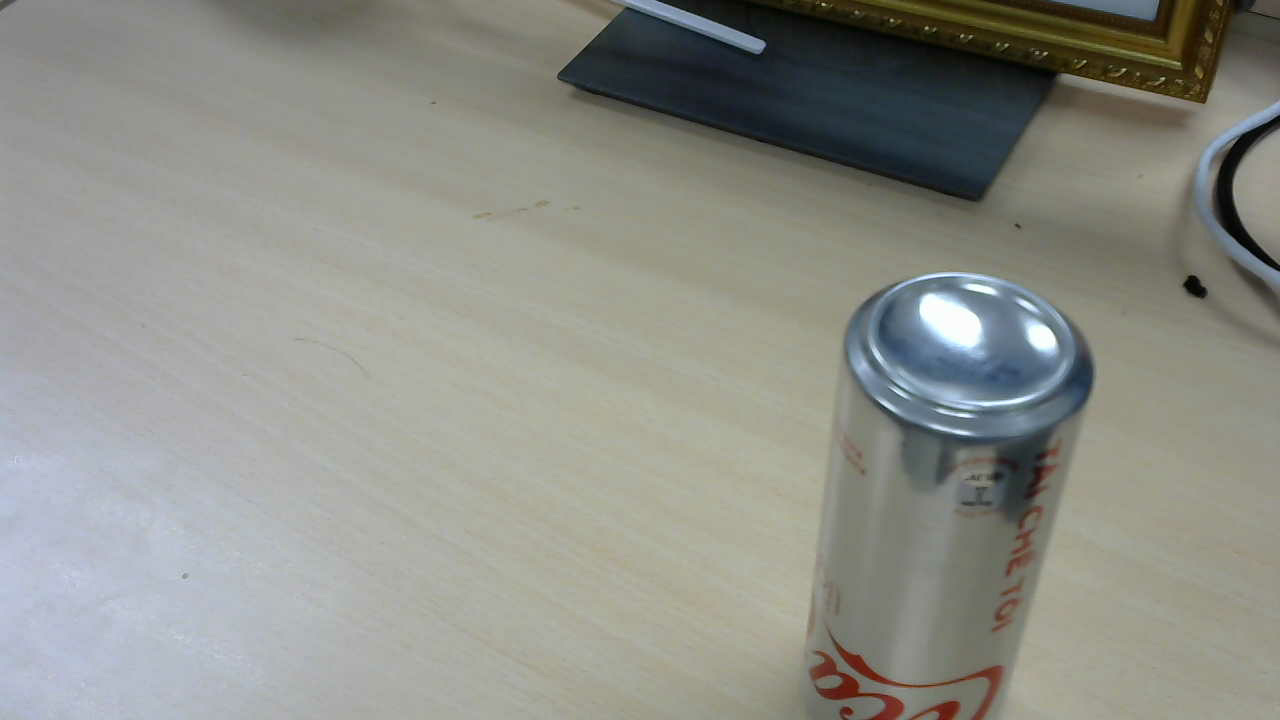Coca_Cola: (798, 273, 1098, 702)
